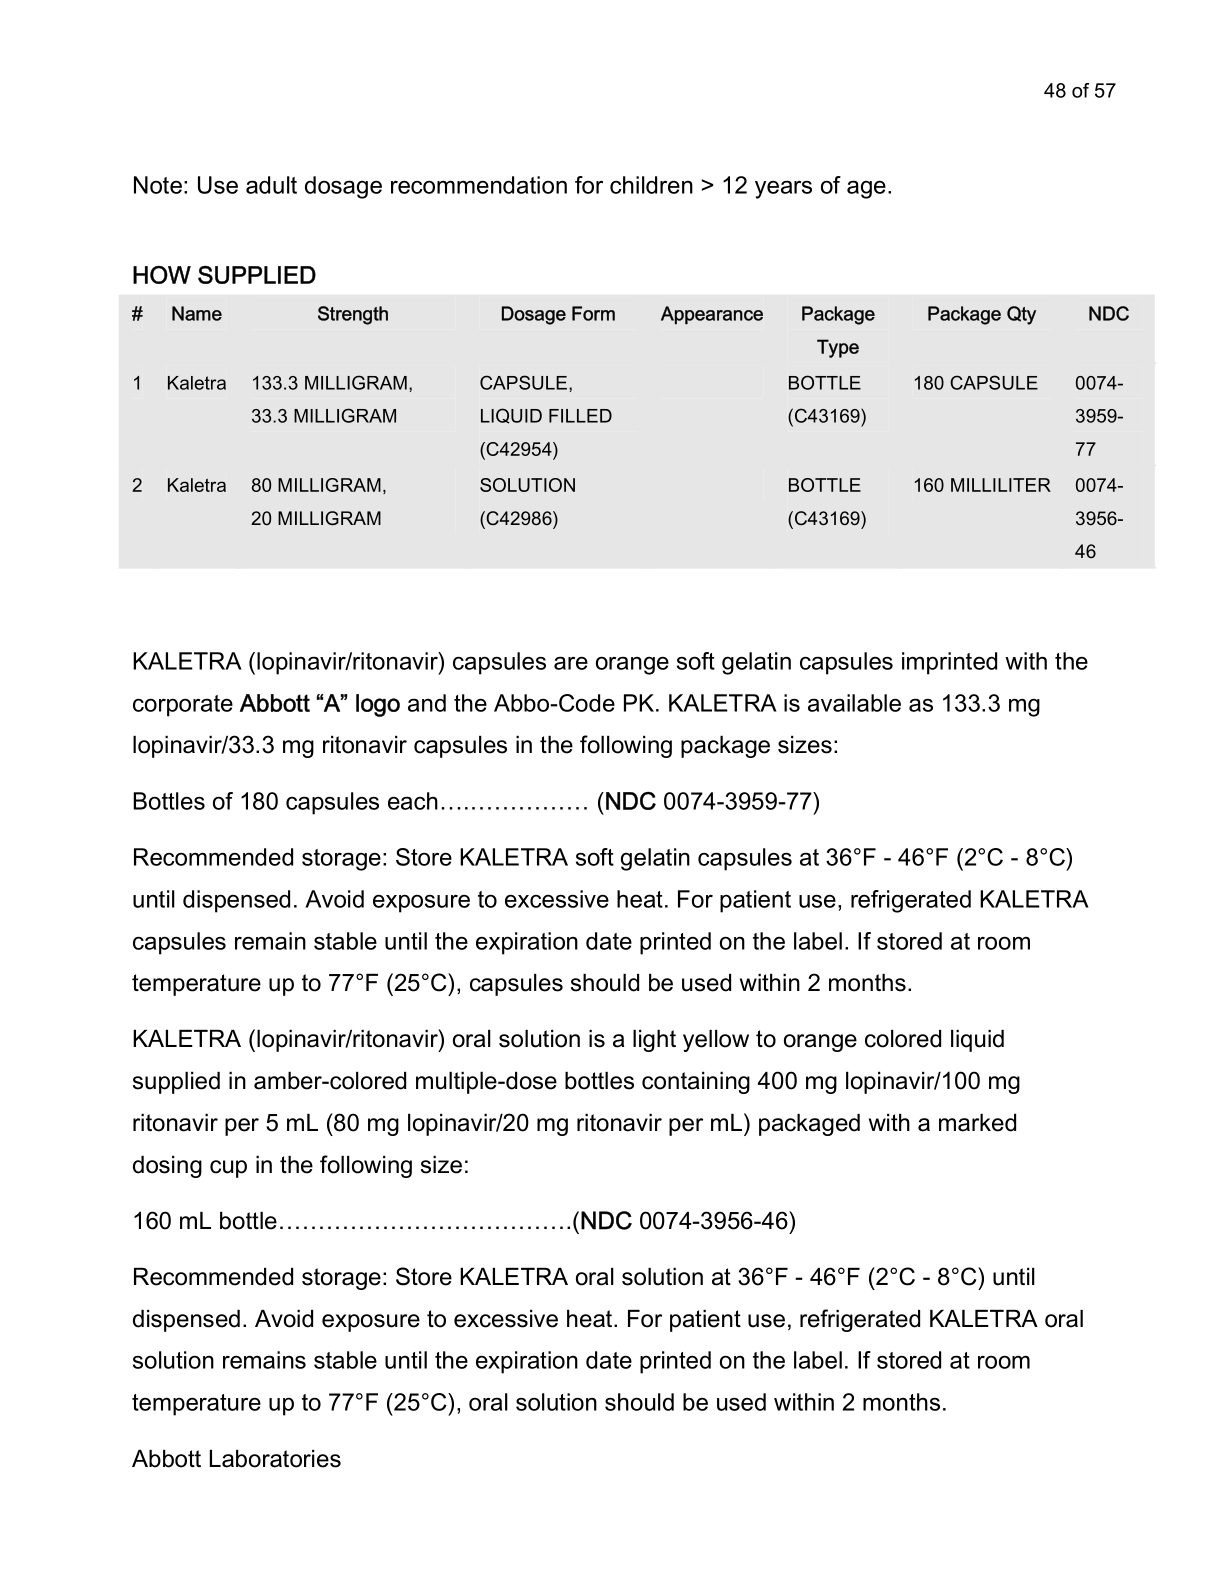nolines: (126, 301, 1134, 562)
